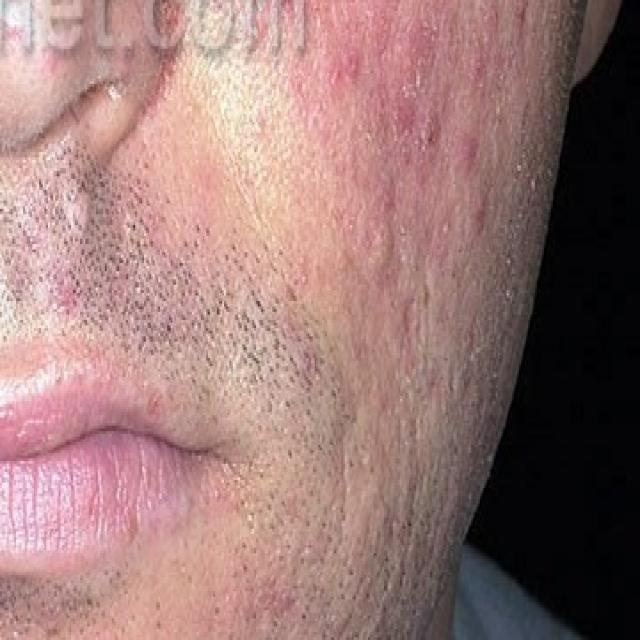Rosacea: (328, 14, 483, 281)
